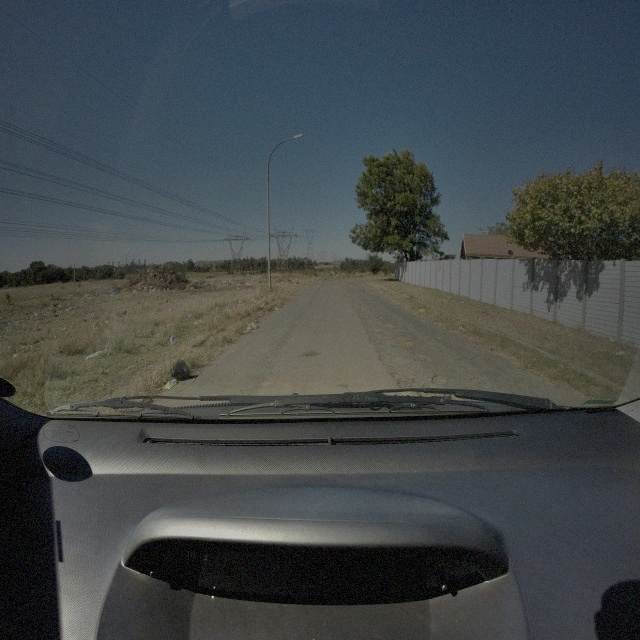pothole: (395, 337, 412, 349), (432, 376, 448, 386), (361, 306, 368, 315), (391, 372, 399, 378)
